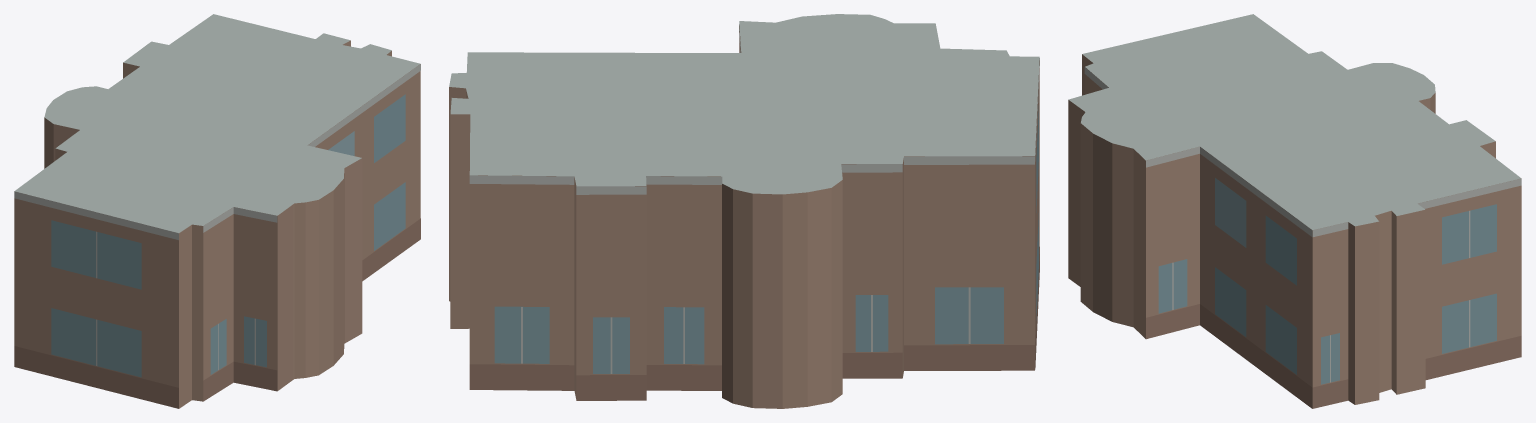
Rendered from survey-upis-32897345.glb.
The picture shows the model from 3 angles, left to right: view 1: azimuth 30°, elevation 25°; view 2: azimuth 150°, elevation 25°; view 3: azimuth 270°, elevation 25°; orthographic projection. The views are drawn at different scales.
Parts seen in each view (by area): view 1: survey-upis-32897345.tmp; view 2: survey-upis-32897345.tmp; view 3: survey-upis-32897345.tmp.
Part boxes in pixels (<box>): survey-upis-32897345.tmp: <box>14,14,420,408</box>; survey-upis-32897345.tmp: <box>449,14,1039,408</box>; survey-upis-32897345.tmp: <box>1068,14,1521,408</box>.
Size of the model in its own units: 15.84 by 6.1 by 14.03.
